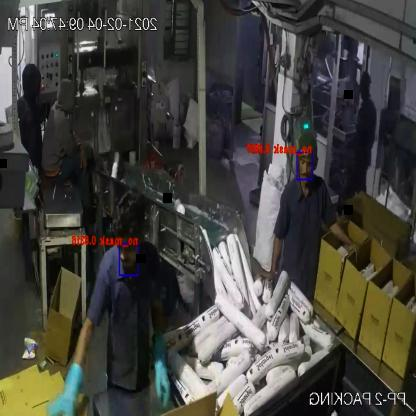glove: (38, 321, 96, 416), (139, 318, 181, 416)
no_glove: (319, 211, 378, 265), (268, 218, 287, 294)
